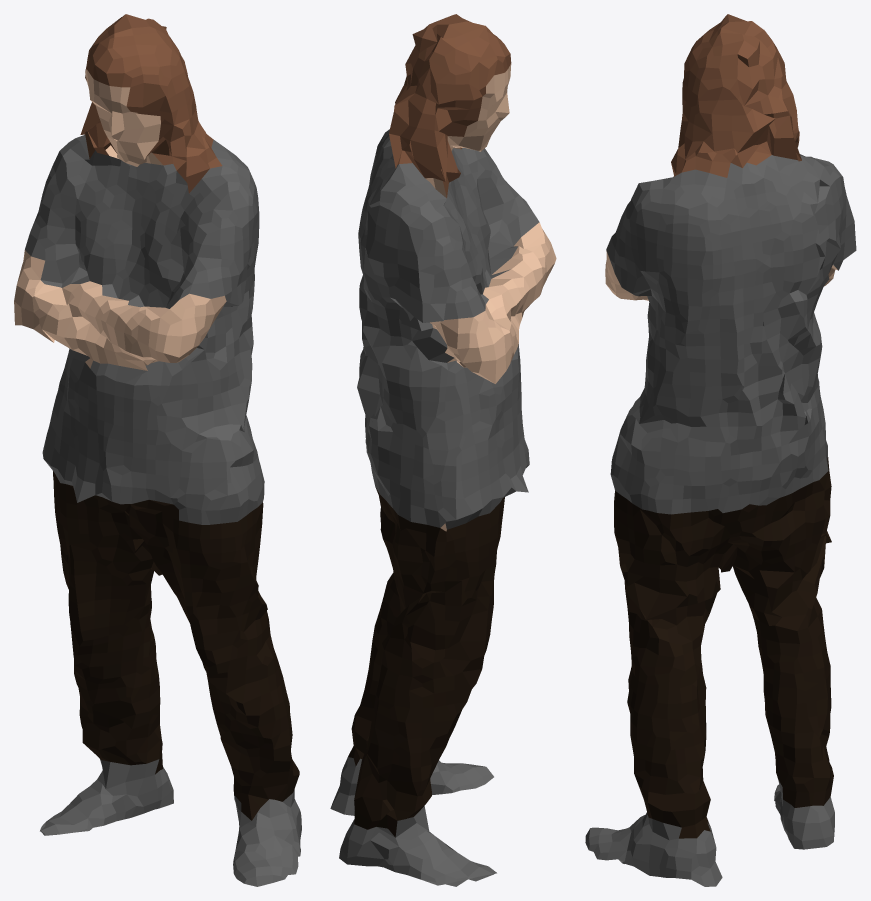
Rendered from martin.glb.
3 renders of one model, left to right at view 1: azimuth 30°, elevation 25°; view 2: azimuth 150°, elevation 25°; view 3: azimuth 270°, elevation 25°, orthographic. The views are drawn at different scales.
Visible parts, largest first — view 1: Model.001; view 2: Model.001; view 3: Model.001.
Boxes of the visible parts, x1,y1,x2,y2 form: Model.001: (14, 14, 301, 886); Model.001: (330, 14, 556, 886); Model.001: (585, 14, 856, 886).
Bounding box in the file's own units: 1.14 × 4.06 × 1.24.
